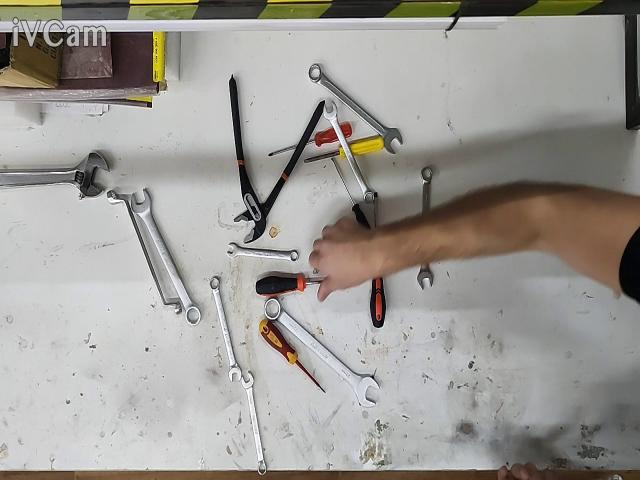Adjustable spanner: (0, 152, 109, 201)
Gas wrench: (229, 75, 325, 244)
Hand: (310, 183, 640, 301)
Screwdriver: (259, 319, 326, 394), (331, 157, 372, 230), (268, 124, 352, 156), (305, 135, 384, 163), (256, 275, 322, 297), (370, 277, 386, 328)
Wrench: (264, 297, 379, 407), (131, 188, 201, 325), (107, 189, 182, 315), (308, 65, 402, 155), (324, 99, 374, 206), (210, 277, 242, 383), (241, 371, 266, 475), (416, 167, 433, 290), (227, 243, 299, 263)
